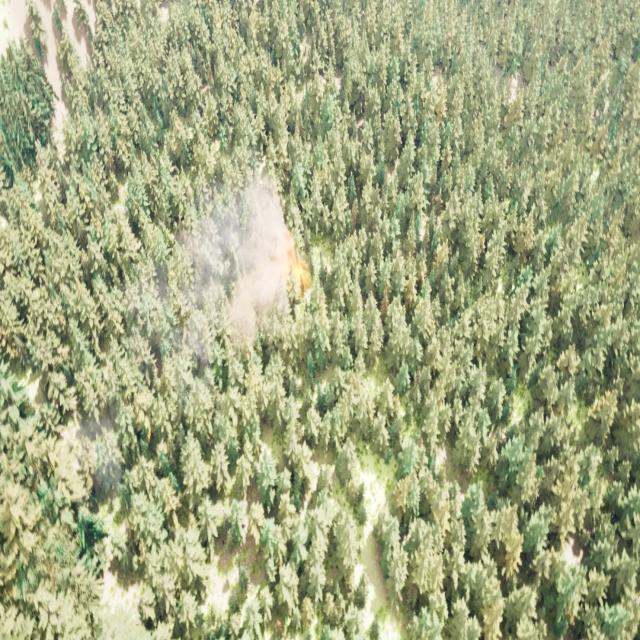fire: (290, 244, 310, 302)
smoke: (171, 166, 290, 351)
